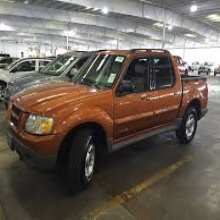no damage: (6, 50, 209, 184)
